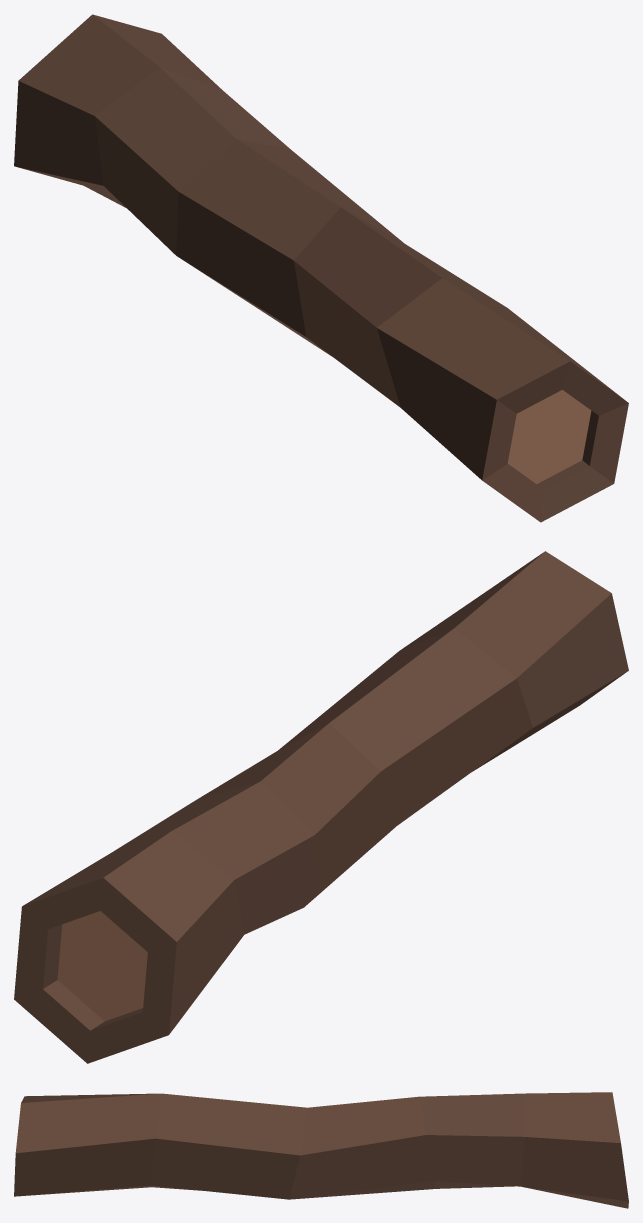
Rendered from Tree_Log_2.fbx.
3 views of the same model, one above another, from view 1: azimuth 30°, elevation 25°; view 2: azimuth 150°, elevation 25°; view 3: azimuth 270°, elevation 25° (orthographic). The views are drawn at different scales.
Parts seen in each view (by area): view 1: Tree_Log_2; view 2: Tree_Log_2; view 3: Tree_Log_2.
Part boxes in pixels (x1,y1,x2,y2): Tree_Log_2: (14, 14, 628, 522); Tree_Log_2: (14, 551, 628, 1063); Tree_Log_2: (14, 1092, 628, 1208).
Bounding box in the file's own units: 49.56 × 56.32 × 272.
